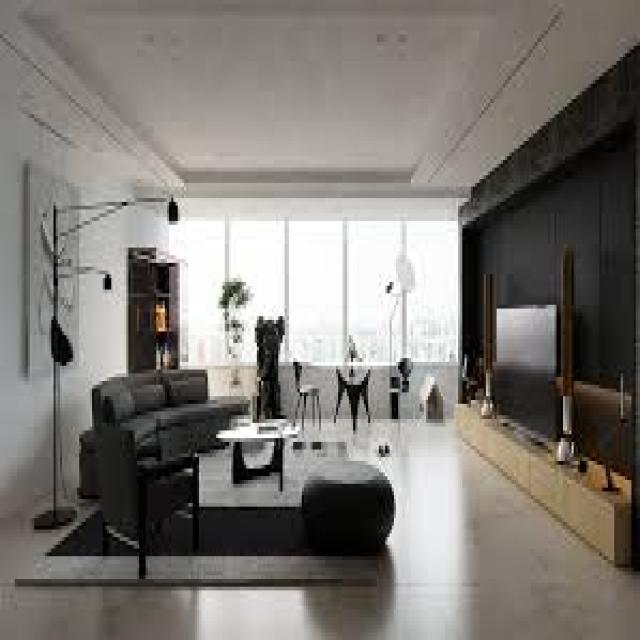Sofa: (83, 362, 246, 481)
Table: (216, 420, 300, 496)
tv: (492, 304, 562, 446)
window: (180, 220, 458, 362)
